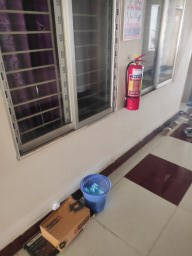fire_extinguisher: (40, 61, 83, 90)
